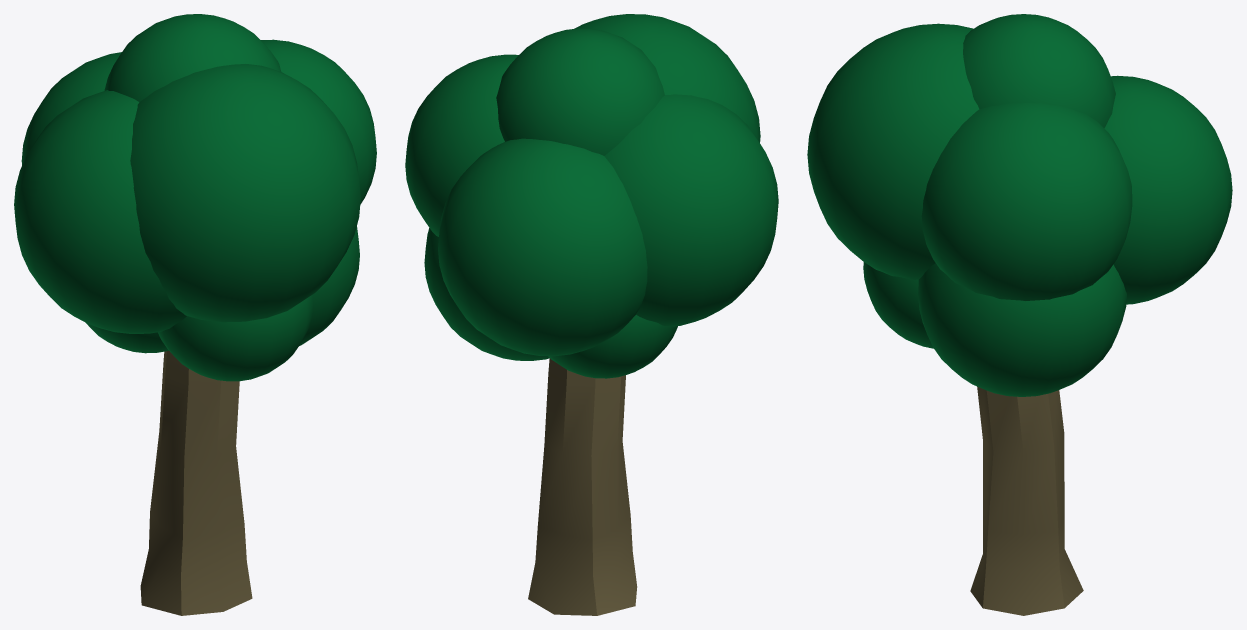
File: Medium Tree.fbx
3 views of the same model, side by side, from view 1: azimuth 30°, elevation 25°; view 2: azimuth 150°, elevation 25°; view 3: azimuth 270°, elevation 25° (orthographic). The views are drawn at different scales.
Visible parts, largest first — view 1: pSphere6, pSphere4, pCube1, pSphere3, pSphere8, pSphere2, pSphere5, pSphere9, pSphere7; view 2: pSphere5, pSphere4, pCube1, pSphere3, pSphere2, pSphere6, pSphere7, pSphere9; view 3: pSphere2, pSphere6, pSphere5, pCube1, pSphere9, pSphere3, pSphere8.
Part boxes in pixels (x1=…): pSphere6: x1=130, y1=64, x2=360, y2=322; pSphere4: x1=14, y1=90, x2=186, y2=333; pCube1: x1=140, y1=350, x2=252, y2=615; pSphere3: x1=104, y1=14, x2=281, y2=101; pSphere8: x1=158, y1=294, x2=313, y2=381; pSphere2: x1=261, y1=39, x2=376, y2=204; pSphere5: x1=21, y1=52, x2=121, y2=165; pSphere9: x1=299, y1=226, x2=359, y2=345; pSphere7: x1=85, y1=322, x2=168, y2=353; pSphere5: x1=438, y1=138, x2=647, y2=356; pSphere4: x1=604, y1=94, x2=778, y2=326; pCube1: x1=528, y1=358, x2=637, y2=615; pSphere3: x1=496, y1=28, x2=664, y2=155; pSphere2: x1=405, y1=54, x2=518, y2=236; pSphere6: x1=574, y1=14, x2=760, y2=142; pSphere7: x1=548, y1=315, x2=677, y2=378; pSphere9: x1=424, y1=228, x2=549, y2=360; pSphere2: x1=921, y1=103, x2=1132, y2=300; pSphere6: x1=807, y1=23, x2=979, y2=279; pSphere5: x1=1104, y1=75, x2=1232, y2=304; pCube1: x1=970, y1=386, x2=1083, y2=615; pSphere9: x1=918, y1=263, x2=1126, y2=396; pSphere3: x1=963, y1=14, x2=1115, y2=128; pSphere8: x1=863, y1=262, x2=933, y2=348.
Size of the model in its own units: 4.83 by 7.67 by 5.2.
